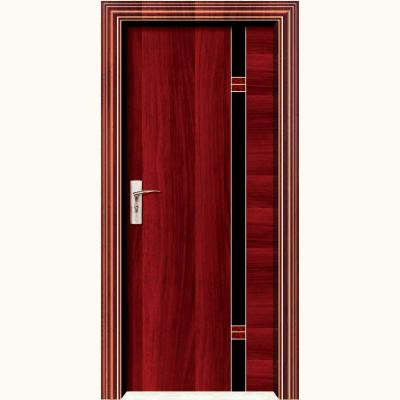door: (125, 26, 278, 391)
